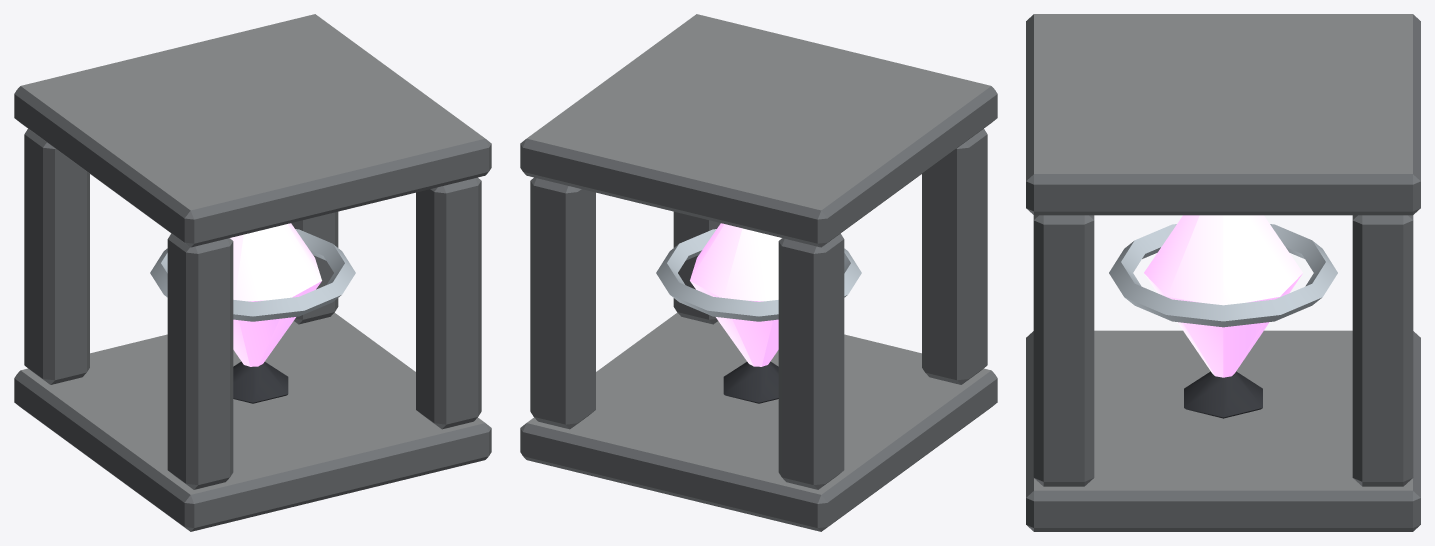
The model's file is R4X_CoreBooster_LOD1.glb.
The picture shows the model from 3 angles, left to right: view 1: azimuth 30°, elevation 25°; view 2: azimuth 150°, elevation 25°; view 3: azimuth 270°, elevation 25°; orthographic projection. The views are drawn at different scales.
Visible parts, largest first — view 1: R4X_CoreBooster_LOD1; view 2: R4X_CoreBooster_LOD1; view 3: R4X_CoreBooster_LOD1.
Part boxes in pixels (bbox=[...]): R4X_CoreBooster_LOD1: bbox=[14, 14, 491, 531]; R4X_CoreBooster_LOD1: bbox=[520, 14, 997, 531]; R4X_CoreBooster_LOD1: bbox=[1026, 14, 1420, 531].
Bounding box in the file's own units: 0.52 × 0.52 × 0.52.
